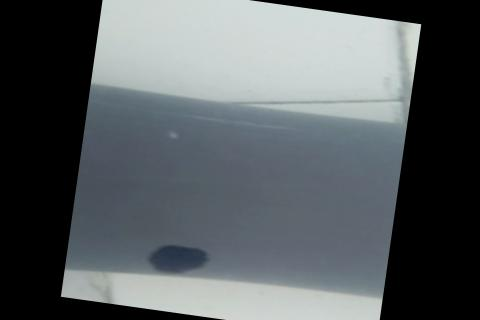kebocoran: (143, 238, 211, 281)
